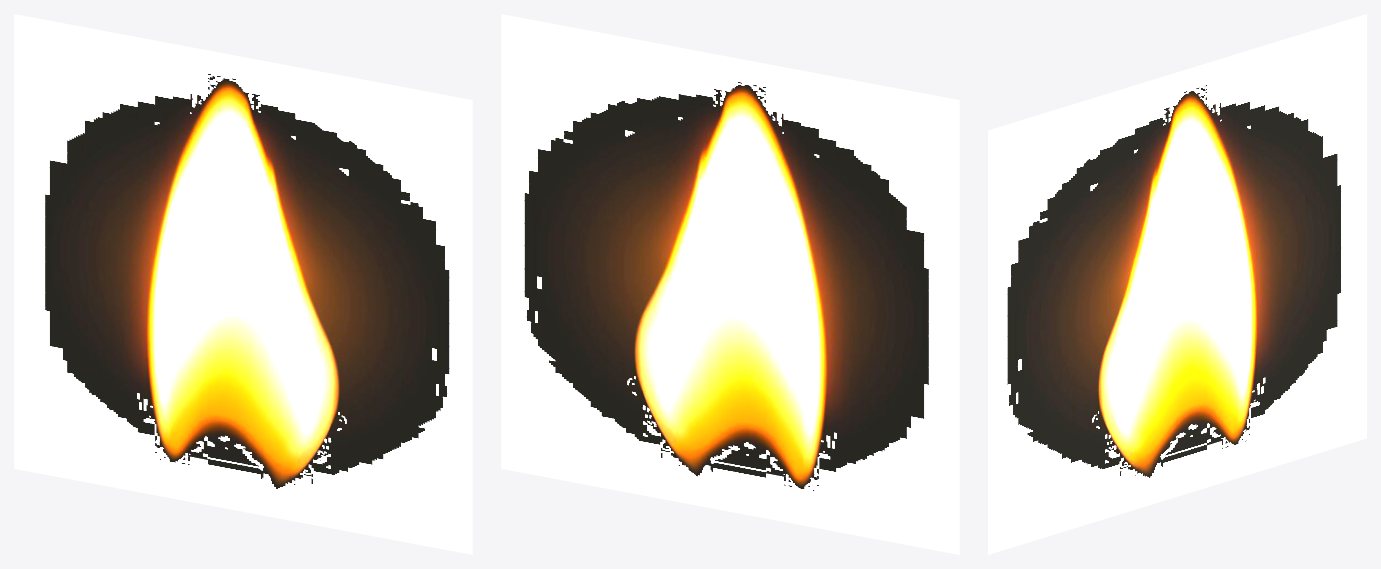
3 renders of one model, left to right at view 1: azimuth 30°, elevation 25°; view 2: azimuth 210°, elevation 25°; view 3: azimuth 270°, elevation 25°, orthographic. The views are drawn at different scales.
Visible parts, largest first — view 1: Plane__4_; view 2: Plane__4_; view 3: Plane__4_.
Boxes of the visible parts, bbox=[...] form: Plane__4_: bbox=[14, 14, 472, 554]; Plane__4_: bbox=[501, 14, 959, 554]; Plane__4_: bbox=[988, 14, 1366, 554].
Size of the model in its own units: 4.18 by 7.1 by 5.74.
